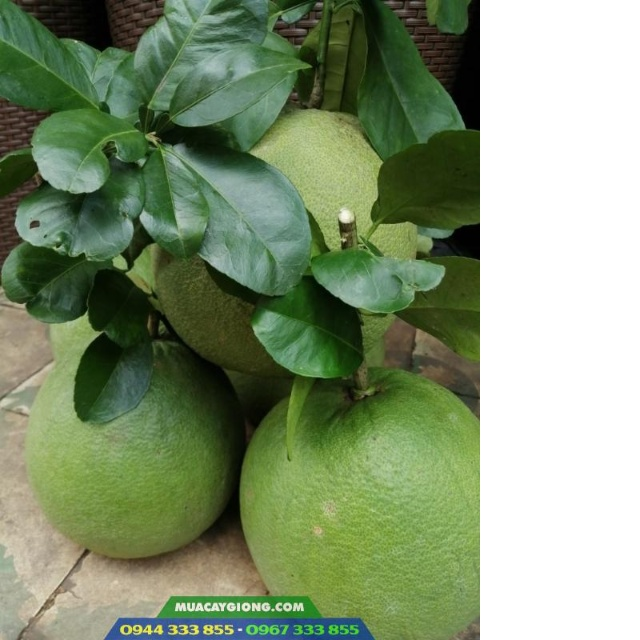buoi: (237, 369, 480, 640), (24, 334, 235, 561)
